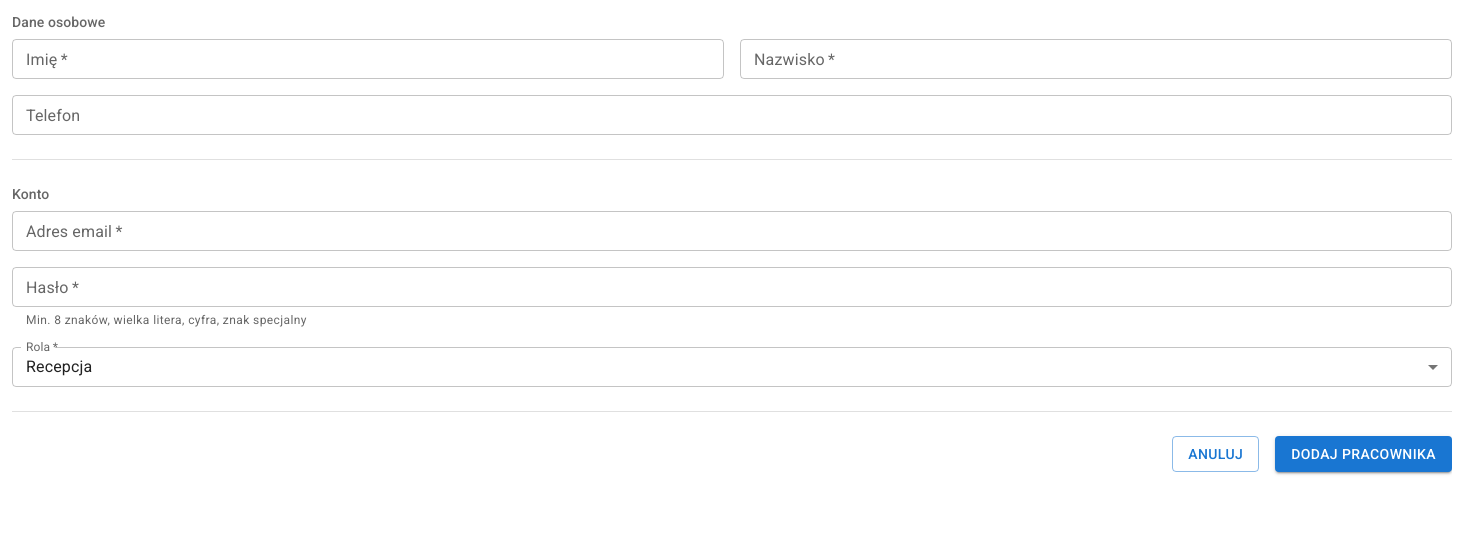
Test case: UserForm — Create mode › should show validation errors when submitting empty form
Step 1. Click the button "Dodaj pracownika" → (1364, 454), box [1275,436,1452,472]
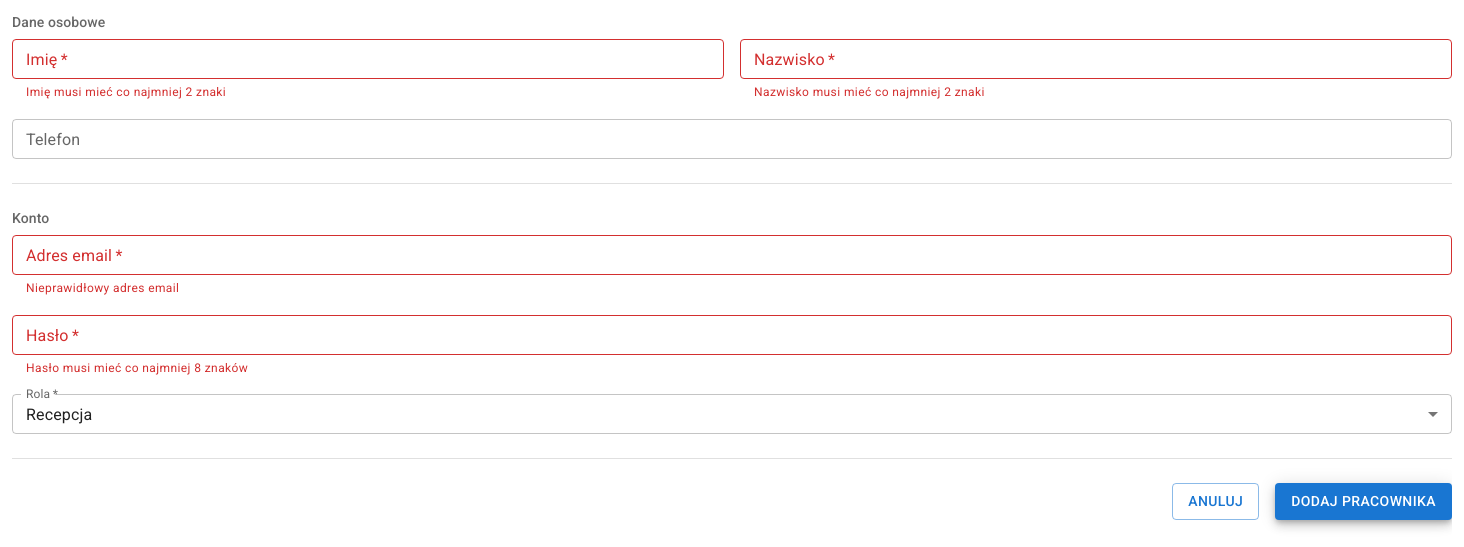
expect the text "Imię musi mieć co najmniej 2 znaki" is shown: met, box [26,85,226,99]
